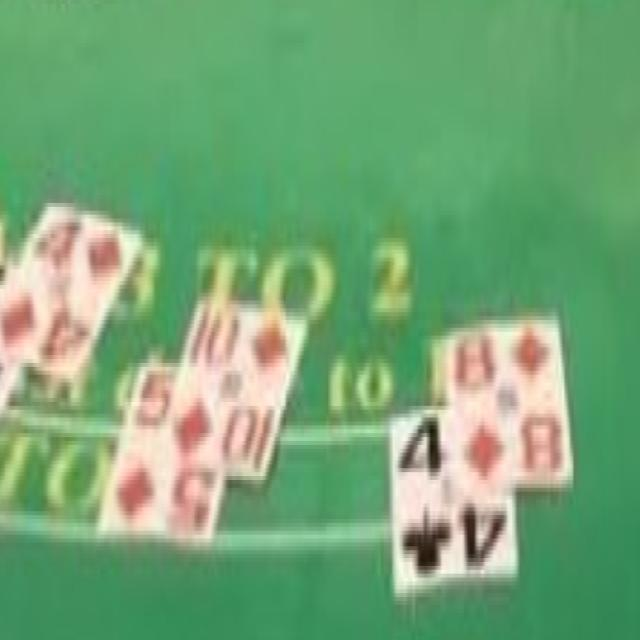Card-10: (167, 294, 308, 481)
Card-4: (0, 192, 143, 385), (391, 409, 519, 593)
Card-5: (97, 363, 225, 547)
Card-8: (452, 312, 573, 491)
